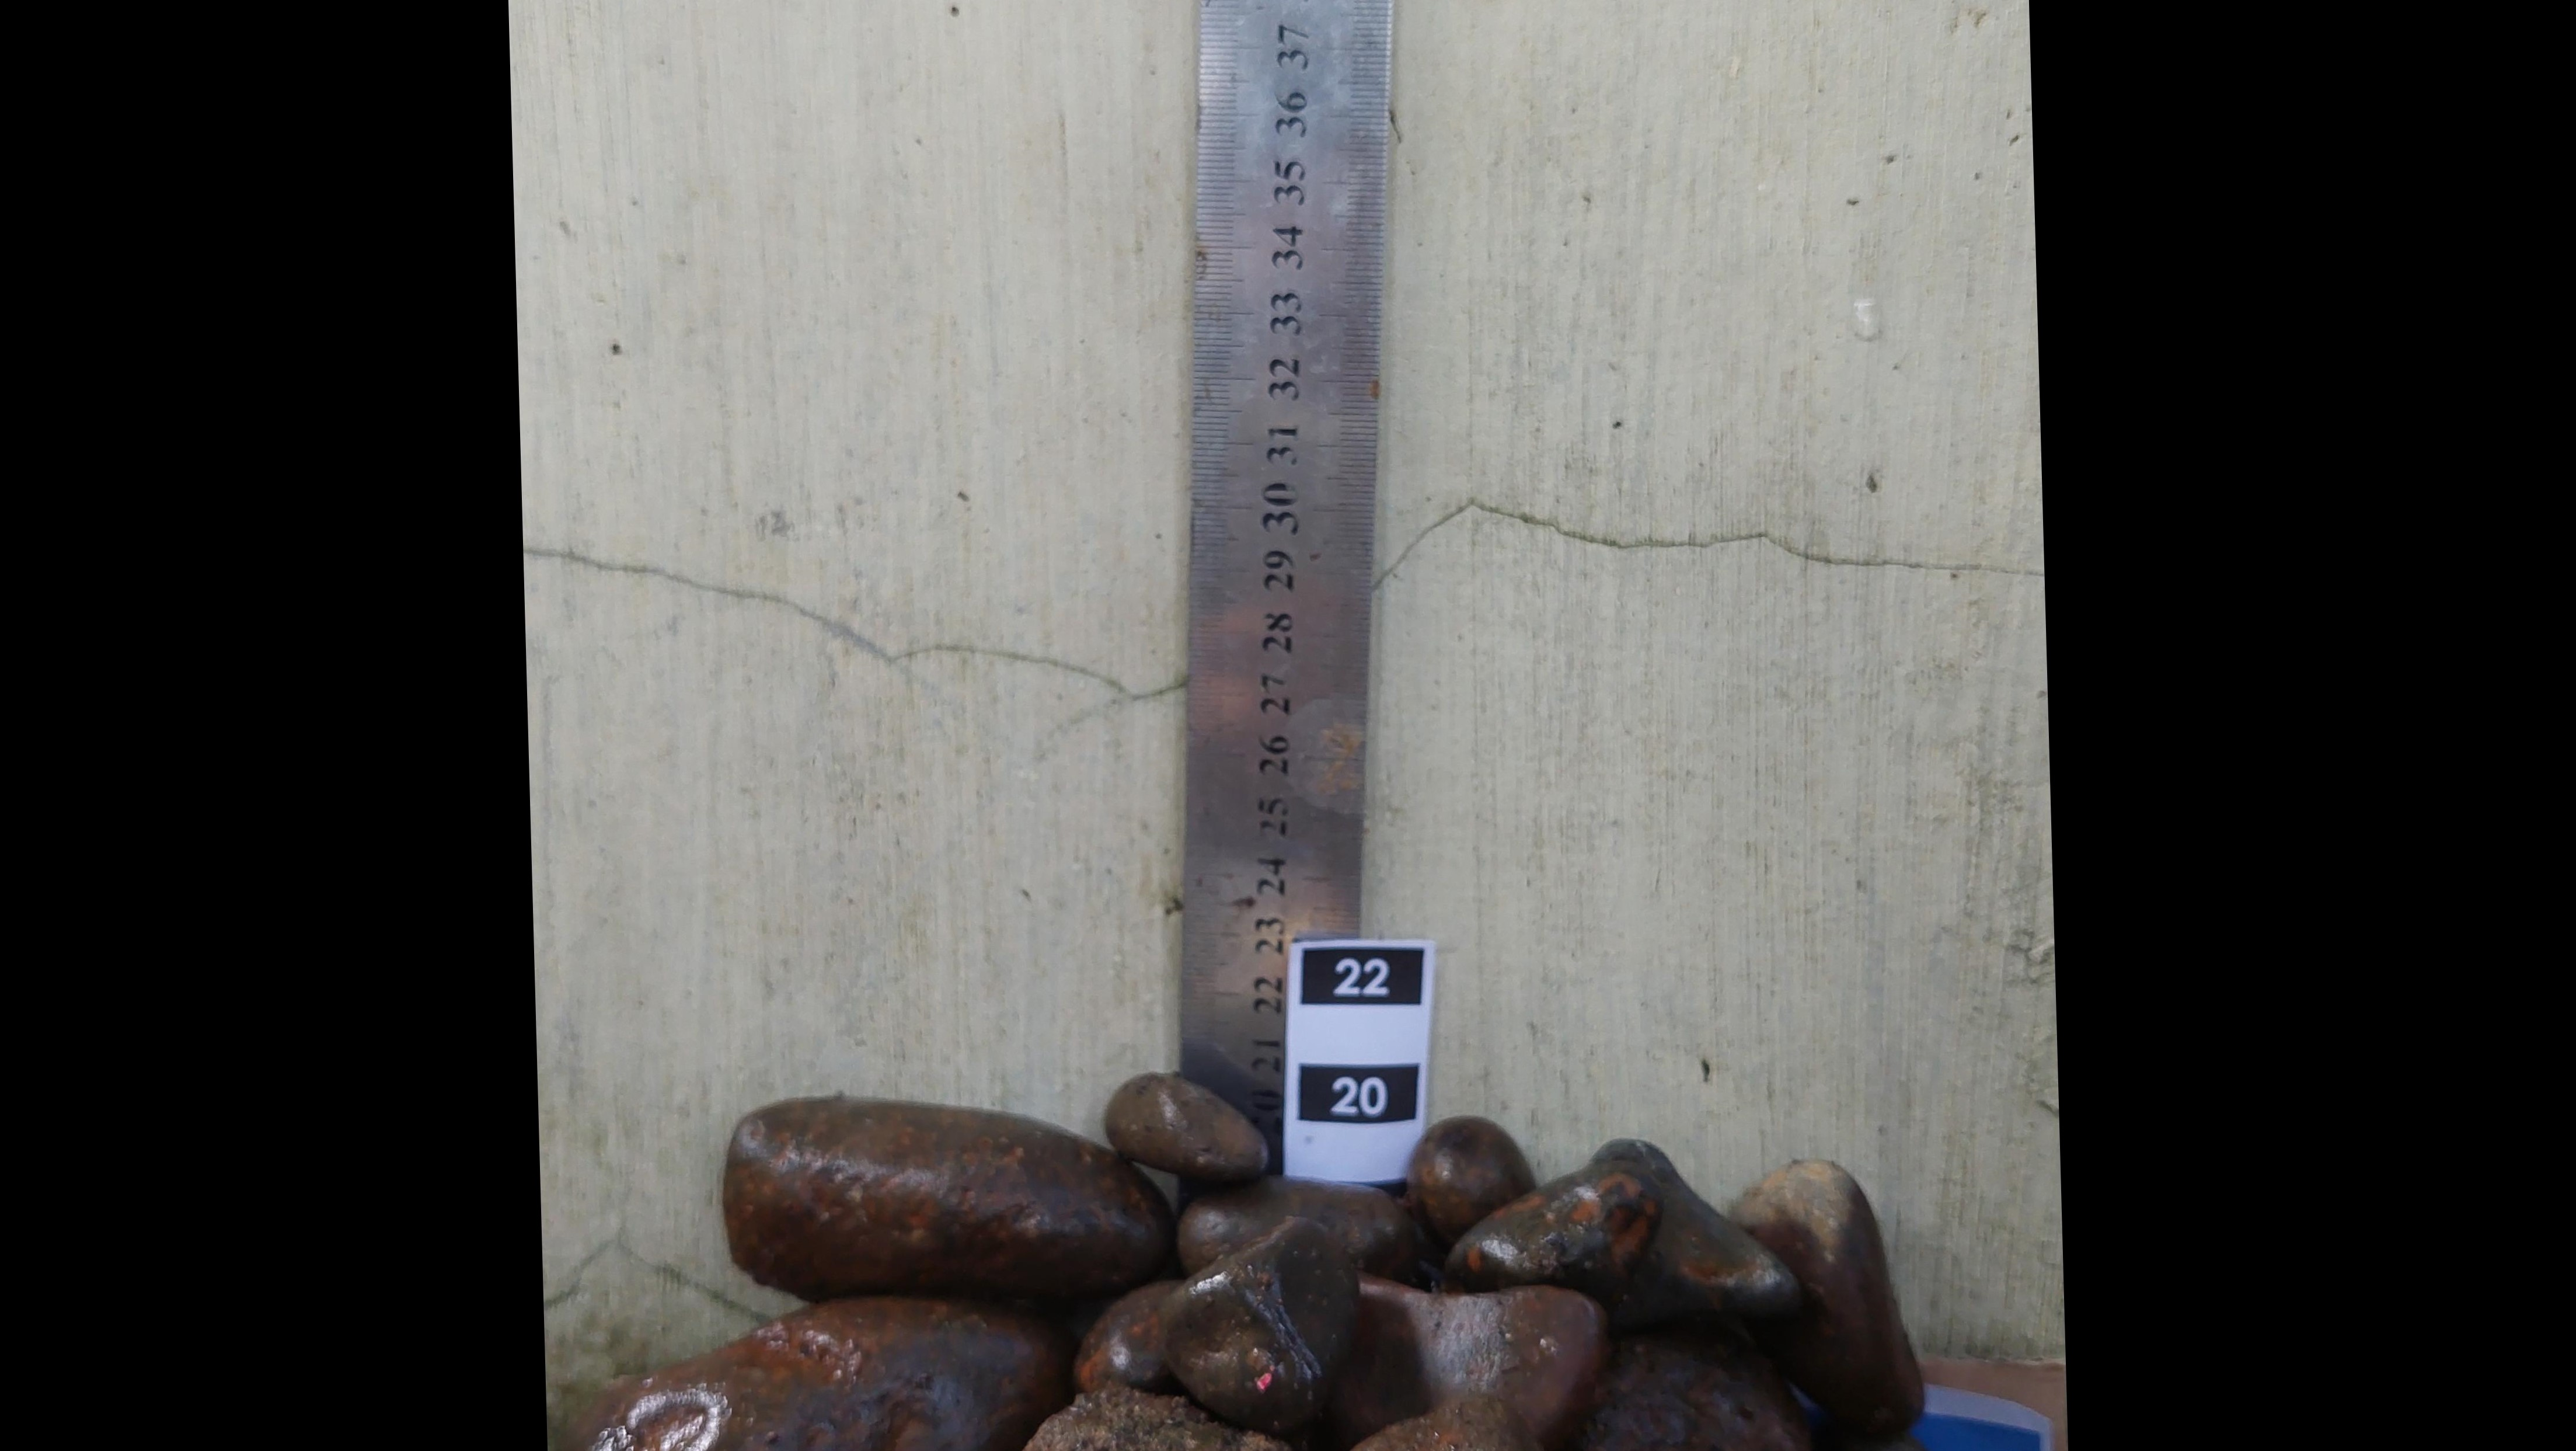kotak_2x1: (1300, 1063, 1421, 1124), (1304, 948, 1421, 1009)
